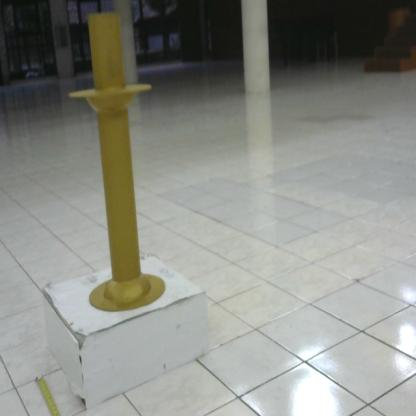pole: (66, 5, 175, 319)
